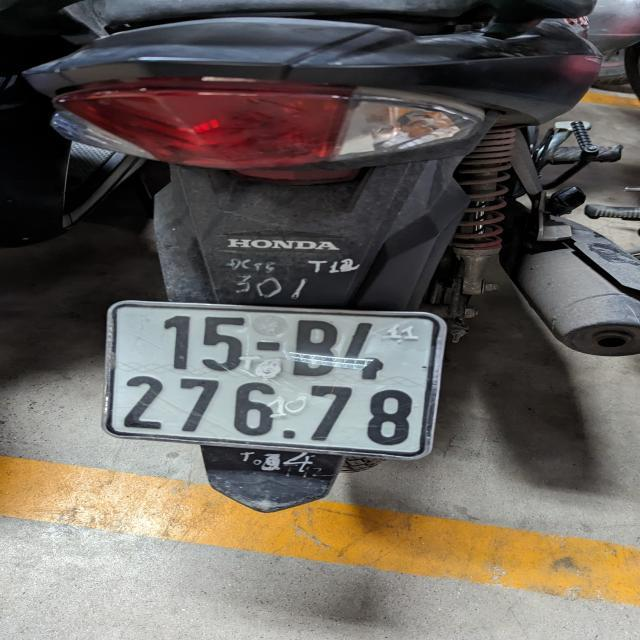license: (101, 299, 447, 462)
